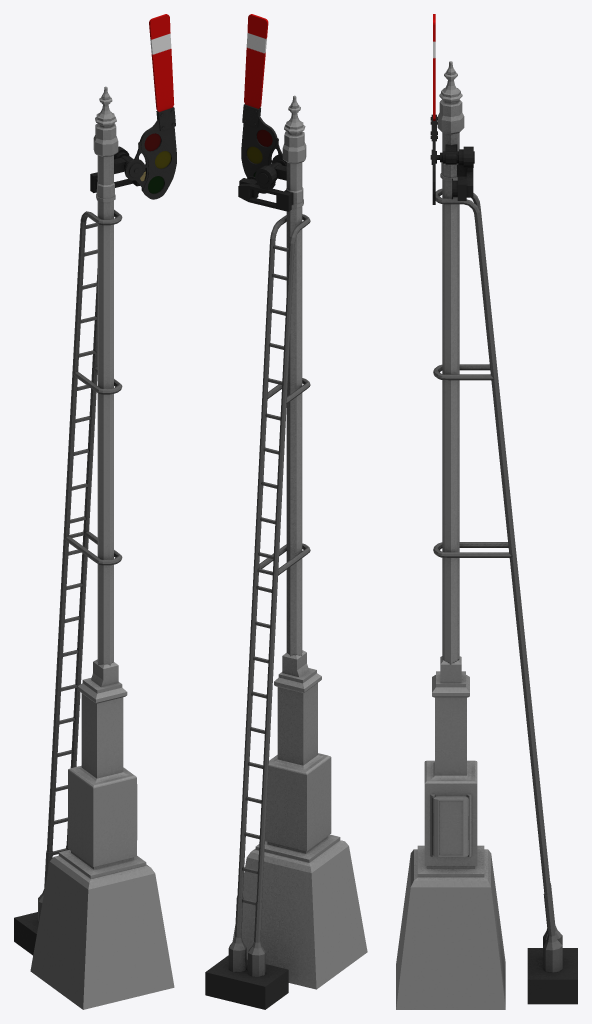
The model's file is semaphore_block_signal.obj.
3 renders of one model, left to right at view 1: azimuth 30°, elevation 25°; view 2: azimuth 150°, elevation 25°; view 3: azimuth 270°, elevation 25°, orthographic. The views are drawn at different scales.
Parts seen in each view (by area): view 1: Cylinder.005_Cylinder, signalhead_1_Cylinder.003; view 2: Cylinder.005_Cylinder, signalhead_1_Cylinder.003; view 3: Cylinder.005_Cylinder, signalhead_1_Cylinder.003.
Part boxes in pixels (<box>): Cylinder.005_Cylinder: <box>14,86,174,1009</box>; signalhead_1_Cylinder.003: <box>124,14,176,199</box>; Cylinder.005_Cylinder: <box>205,95,367,1009</box>; signalhead_1_Cylinder.003: <box>241,14,286,193</box>; Cylinder.005_Cylinder: <box>396,61,577,1009</box>; signalhead_1_Cylinder.003: <box>430,14,439,204</box>.
Size of the model in its own units: 0.8773 by 7.21 by 1.19.
11 materials, 11 textured.
